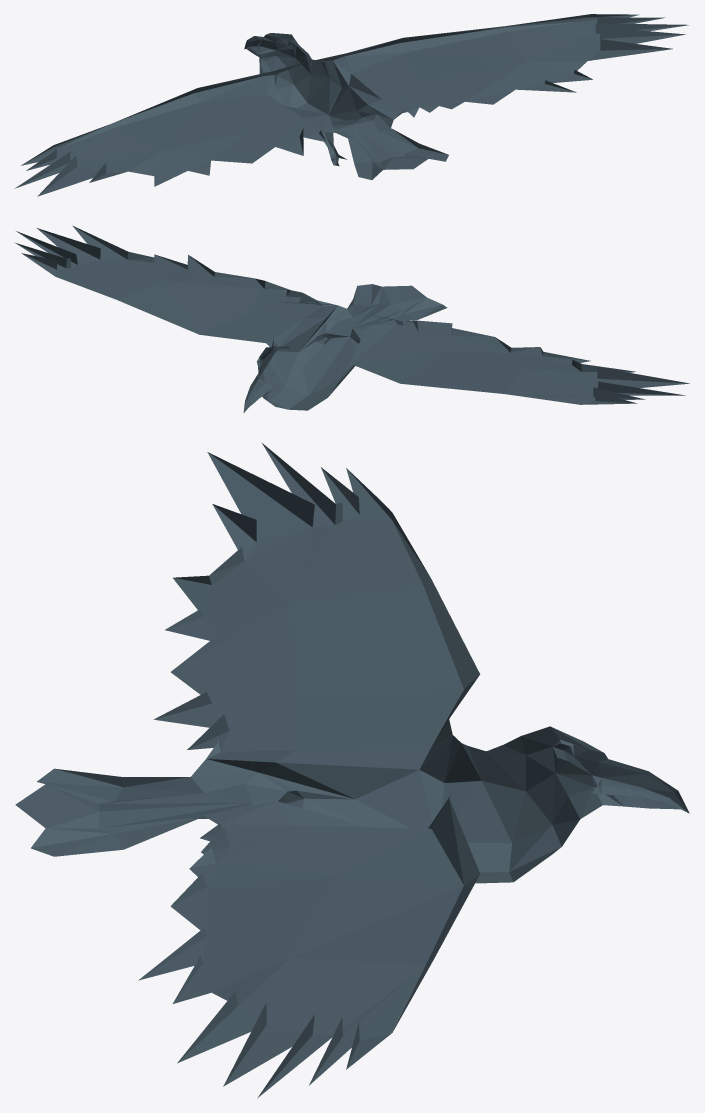
File: birds_raven.gltf
3 renders of one model, top to bottom at view 1: azimuth 30°, elevation 25°; view 2: azimuth 150°, elevation 25°; view 3: azimuth 270°, elevation 25°, orthographic. The views are drawn at different scales.
Parts seen in each view (by area): view 1: raven_colorMap; view 2: raven_colorMap; view 3: raven_colorMap.
Boxes of the visible parts, x1,y1,x2,y2 form: raven_colorMap: [14, 14, 688, 196]; raven_colorMap: [14, 225, 689, 412]; raven_colorMap: [15, 442, 689, 1098].
Bounding box in the file's own units: 106 × 10.56 × 46.13.
